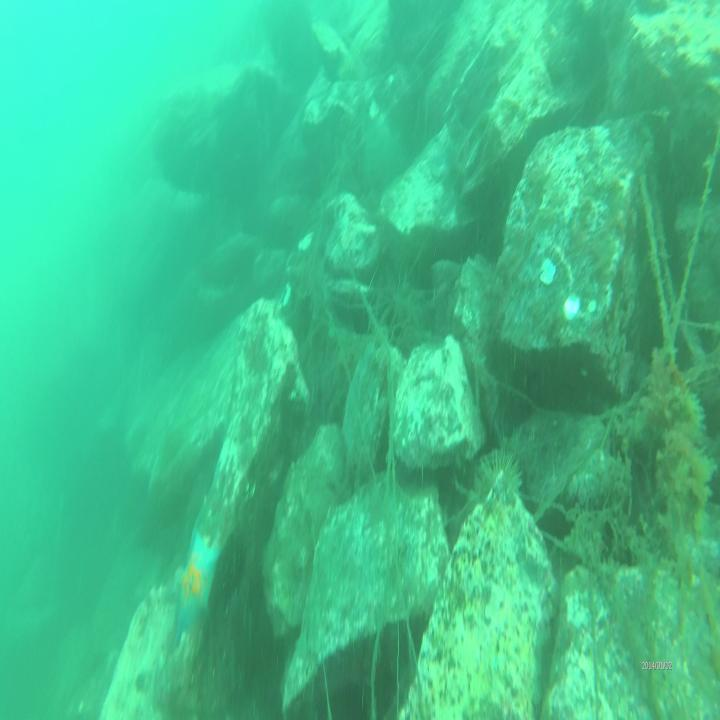echinus: (475, 454, 523, 507)
starfish: (172, 536, 224, 643)
